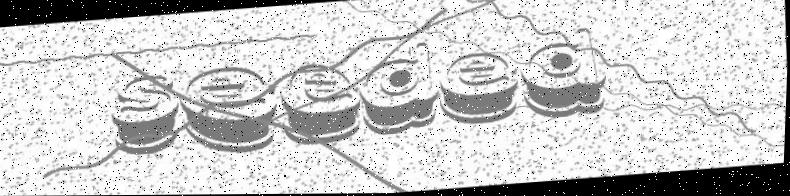d: (513, 27, 622, 124), (351, 39, 444, 138)
e: (272, 52, 370, 151), (179, 64, 283, 157), (429, 49, 524, 130)
s: (105, 71, 184, 159)
